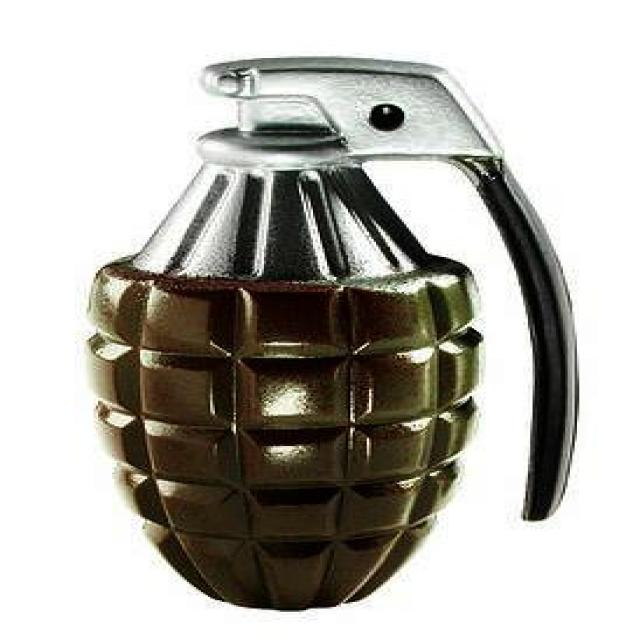grenade: (85, 57, 578, 613)
